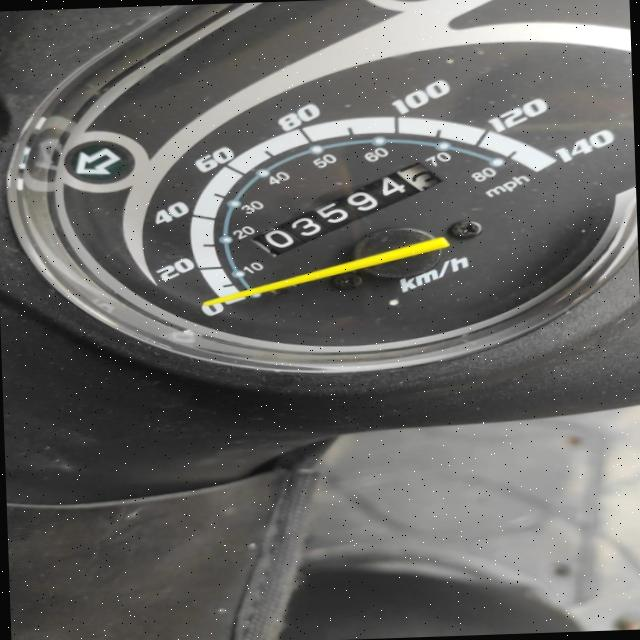odometer: (245, 160, 445, 258)
